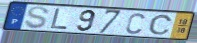7: (98, 9, 124, 34)
9: (76, 9, 96, 32)
C: (148, 14, 174, 36), (125, 12, 146, 35)
L: (49, 7, 69, 30)
S: (23, 6, 51, 30)
